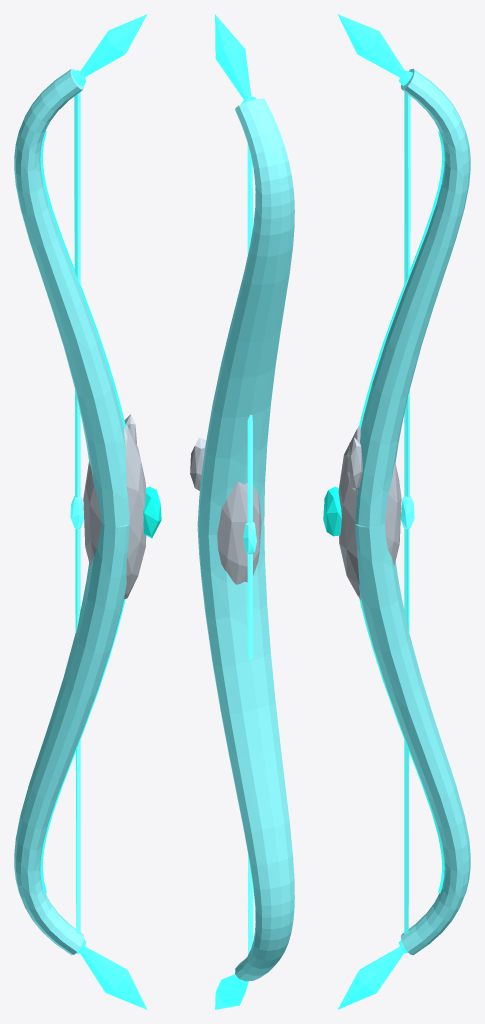
The model's file is bow_2.glb.
3 views of the same model, side by side, from view 1: azimuth 90°, elevation 25°; view 2: azimuth 210°, elevation 25°; view 3: azimuth 270°, elevation 25° (orthographic).
Parts seen in each view (by area): view 1: part_01, part_04, part_09, part_07, part_05, part_02, part_18, part_17, part_19, part_08; view 2: part_04, part_01, part_09, part_07, part_02, part_05, part_16, part_08; view 3: part_01, part_04, part_07, part_09, part_02, part_05, part_18, part_17, part_16, part_19, part_08.
Boxes of the visible parts, left/top/right/bottom form: part_01: left=14, top=68, right=129, bottom=527; part_04: left=14, top=523, right=129, bottom=955; part_09: left=83, top=425, right=146, bottom=598; part_07: left=74, top=92, right=80, bottom=933; part_05: left=80, top=946, right=147, bottom=1009; part_02: left=79, top=14, right=147, bottom=77; part_18: left=40, top=130, right=125, bottom=428; part_17: left=143, top=486, right=161, bottom=538; part_19: left=40, top=599, right=125, bottom=893; part_08: left=70, top=496, right=83, bottom=528; part_04: left=197, top=521, right=294, bottom=981; part_01: left=197, top=98, right=294, bottom=534; part_09: left=217, top=481, right=261, bottom=584; part_07: left=247, top=143, right=253, bottom=954; part_02: left=215, top=14, right=251, bottom=99; part_05: left=215, top=974, right=248, bottom=1009; part_16: left=190, top=437, right=206, bottom=490; part_08: left=243, top=522, right=256, bottom=554; part_01: left=355, top=68, right=470, bottom=527; part_04: left=355, top=523, right=470, bottom=955; part_07: left=404, top=92, right=410, bottom=933; part_09: left=338, top=426, right=401, bottom=599; part_02: left=337, top=14, right=405, bottom=77; part_05: left=337, top=947, right=404, bottom=1009; part_18: left=359, top=130, right=444, bottom=428; part_17: left=323, top=486, right=341, bottom=536; part_16: left=347, top=437, right=362, bottom=490; part_19: left=359, top=598, right=444, bottom=893; part_08: left=400, top=496, right=414, bottom=528.
Size of the model in its own units: 0.0749 by 1.09 by 0.1467.
